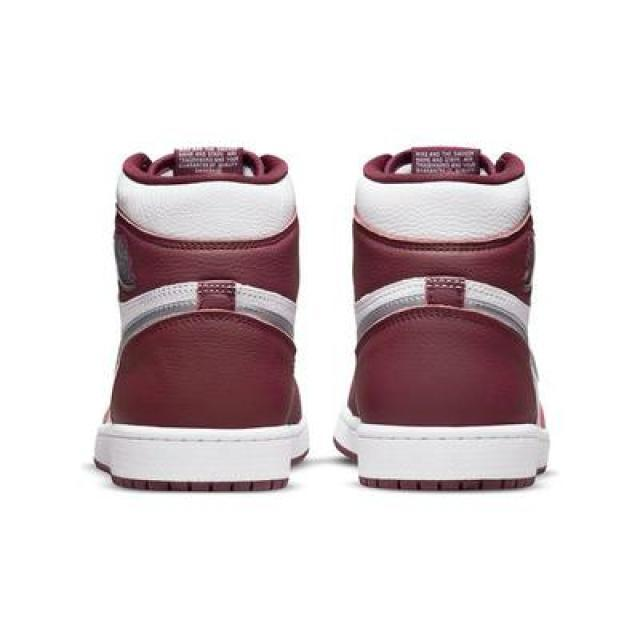J1_InsoleChar: (90, 138, 553, 496)
J1_MateComp: (92, 144, 310, 492), (332, 144, 550, 491)
J1_ShoeLogo: (362, 144, 524, 183), (409, 145, 481, 175)
J1_StitchPattern: (111, 274, 534, 352), (351, 273, 532, 349), (114, 278, 298, 348), (121, 143, 287, 184), (107, 472, 290, 494), (356, 473, 537, 492), (171, 144, 247, 174)
